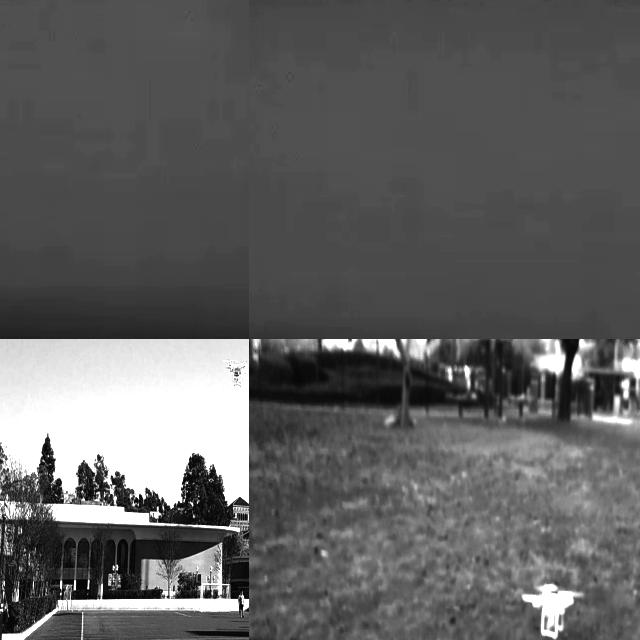drone: (521, 585, 578, 638), (224, 356, 248, 383)
